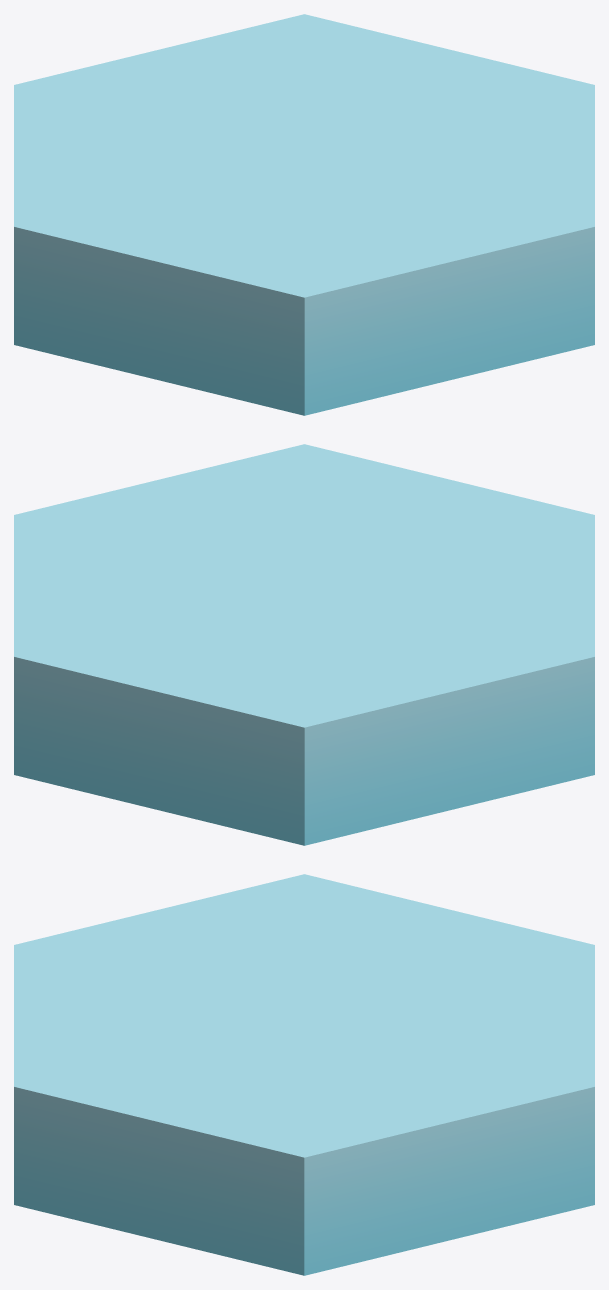
Rendered from lowpoly_spot_water.fbx.
The picture shows the model from 3 angles, top to bottom: view 1: azimuth 30°, elevation 25°; view 2: azimuth 150°, elevation 25°; view 3: azimuth 270°, elevation 25°; orthographic projection.
Parts seen in each view (by area): view 1: lowpoly_spot_water; view 2: lowpoly_spot_water; view 3: lowpoly_spot_water.
Part boxes in pixels (x1,y1,x2,y2): lowpoly_spot_water: (14, 14, 594, 415); lowpoly_spot_water: (14, 444, 594, 845); lowpoly_spot_water: (14, 874, 594, 1275).
Size of the model in its own units: 366 by 71.12 by 317.
1 material, 1 textured.
